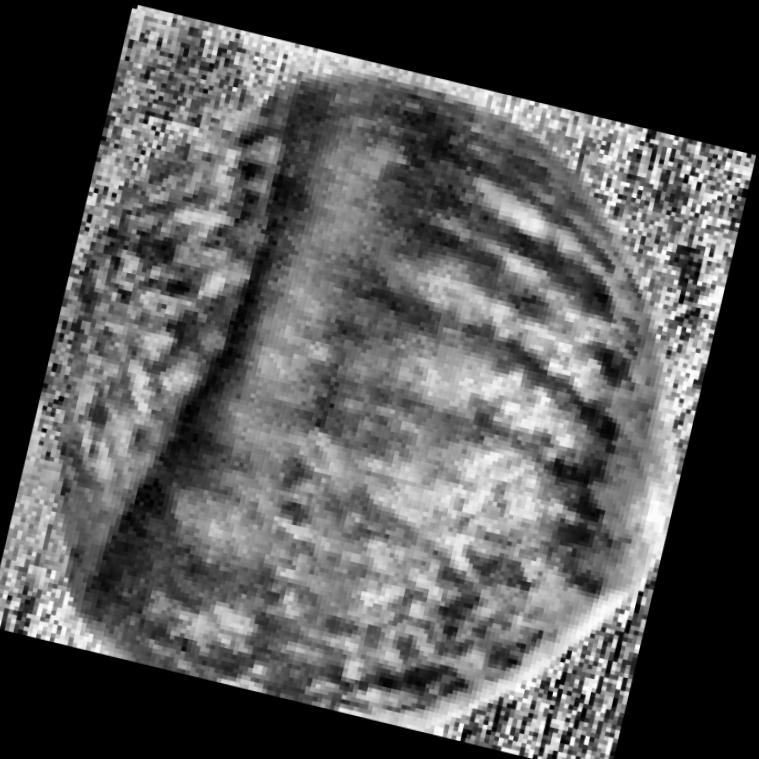qualityHazelnut: (0, 4, 758, 759)
